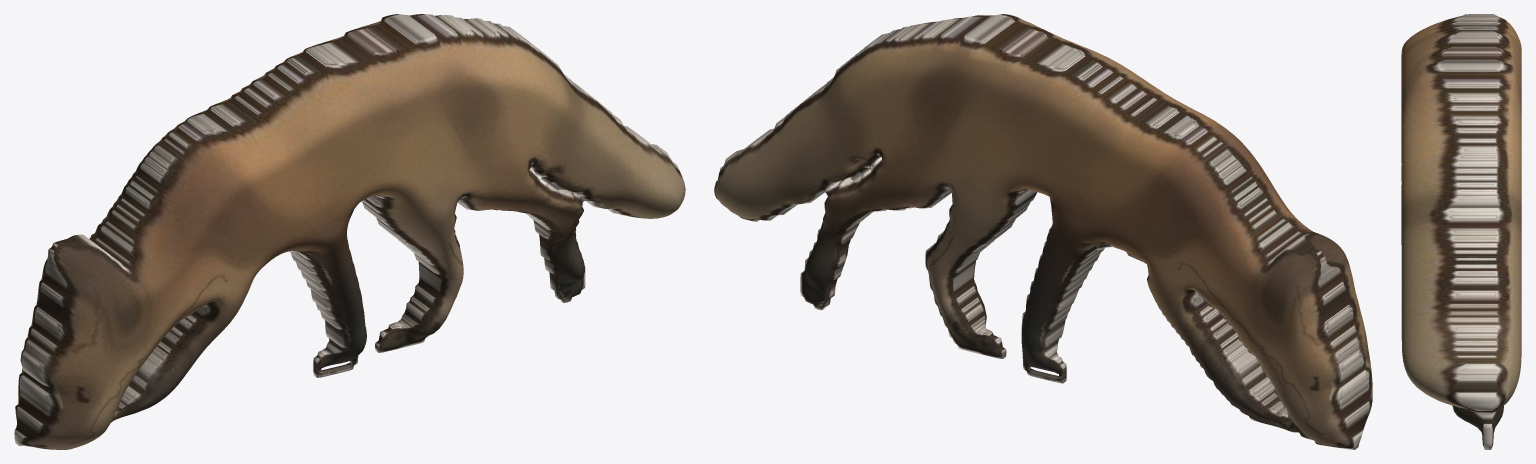
The model's file is red_fox_2262475.glb.
3 views of the same model, side by side, from view 1: azimuth 30°, elevation 25°; view 2: azimuth 150°, elevation 25°; view 3: azimuth 270°, elevation 25° (orthographic). The views are drawn at different scales.
Visible parts, largest first — view 1: red_fox_2262475; view 2: red_fox_2262475; view 3: red_fox_2262475.
Boxes of the visible parts, left/top/right/bottom form: red_fox_2262475: left=14, top=14, right=685, bottom=449; red_fox_2262475: left=714, top=14, right=1372, bottom=449; red_fox_2262475: left=1401, top=14, right=1521, bottom=449.
Size of the model in its own units: 1.97 by 0.9666 by 0.3281.
1 material, 1 textured.
